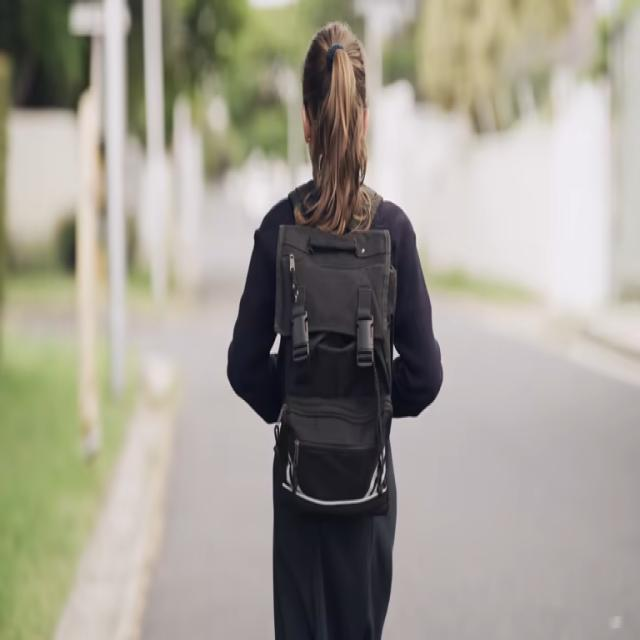bags: (278, 226, 388, 514)
